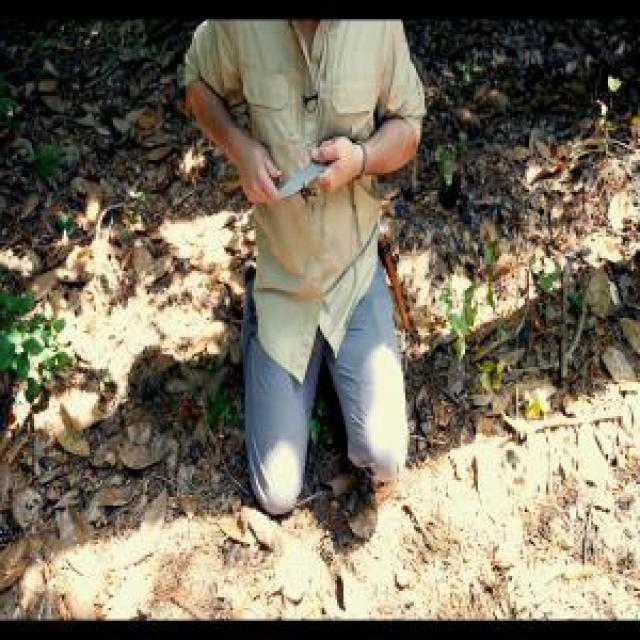knife: (265, 132, 350, 211)
